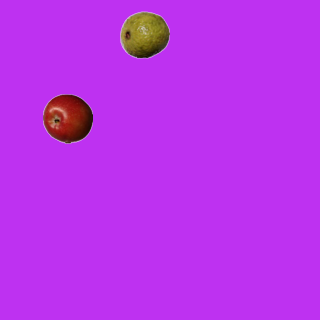Apple Braeburn: (42, 93, 92, 143)
Guava: (119, 9, 169, 59)
